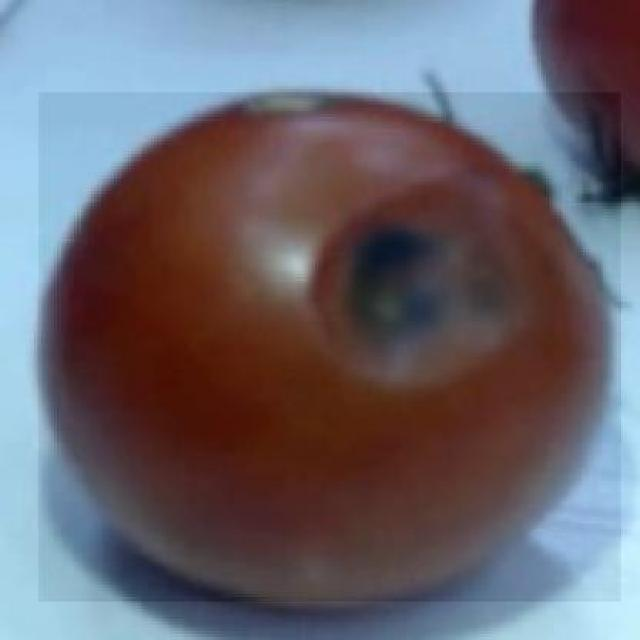tomato: (47, 92, 605, 611)
